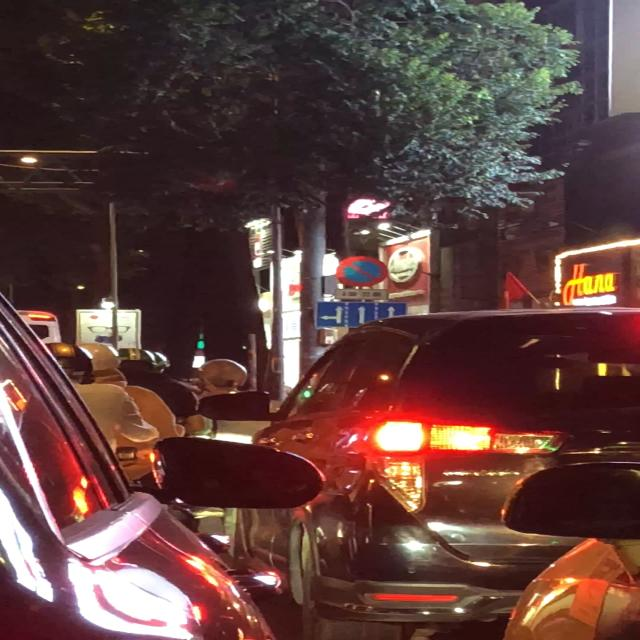Bien bao cam do xe: (336, 253, 393, 290)
